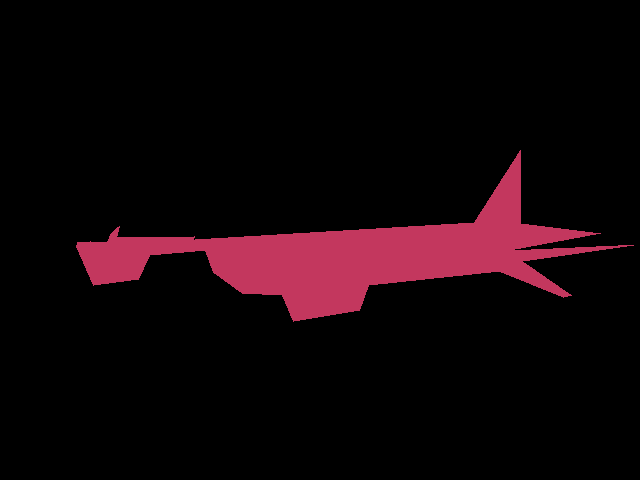Airplane: (76, 150, 640, 321), (76, 226, 195, 246)
